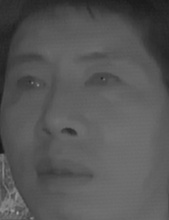eye: (83, 69, 122, 94), (15, 73, 51, 95)
mouth: (32, 153, 98, 191)
